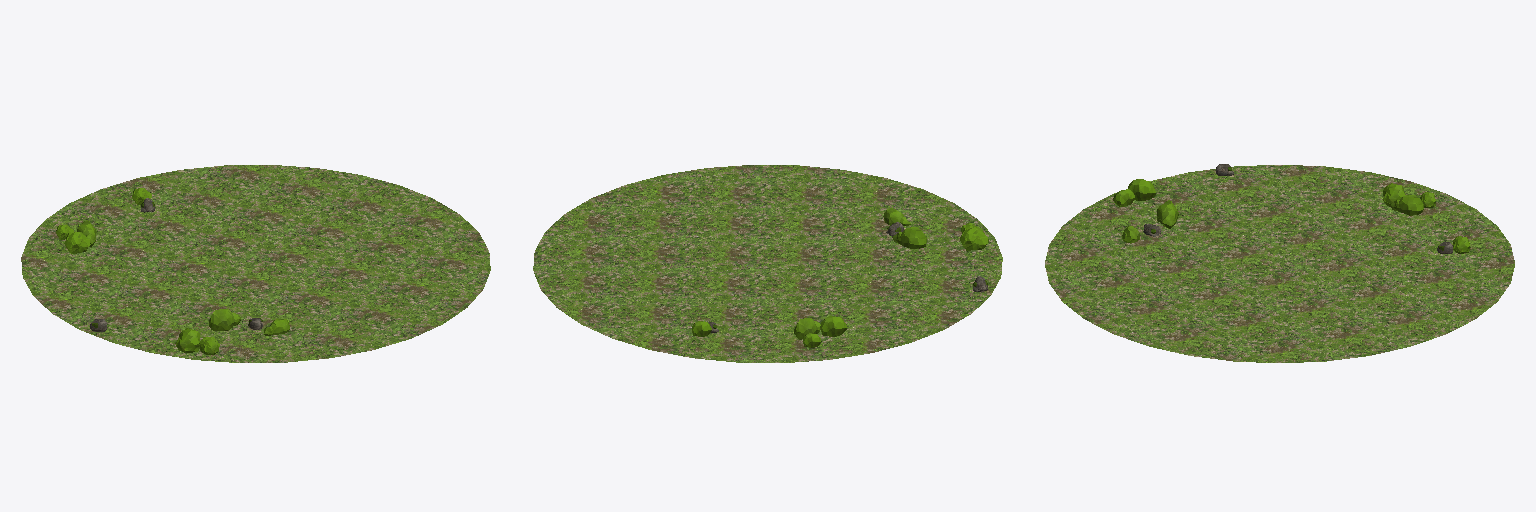
The picture shows the model from 3 angles: view 1: azimuth 30°, elevation 25°; view 2: azimuth 150°, elevation 25°; view 3: azimuth 270°, elevation 25°; orthographic projection.
Visible parts, largest first — view 1: Circle; view 2: Circle; view 3: Circle.
Boxes of the visible parts, x1=… form: Circle: x1=21, y1=165, x2=490, y2=362; Circle: x1=533, y1=165, x2=1002, y2=362; Circle: x1=1045, y1=164, x2=1514, y2=362.
Bounding box in the file's own units: 28.36 × 1.5 × 28.36.
Materials: 6 (5 with a texture image).